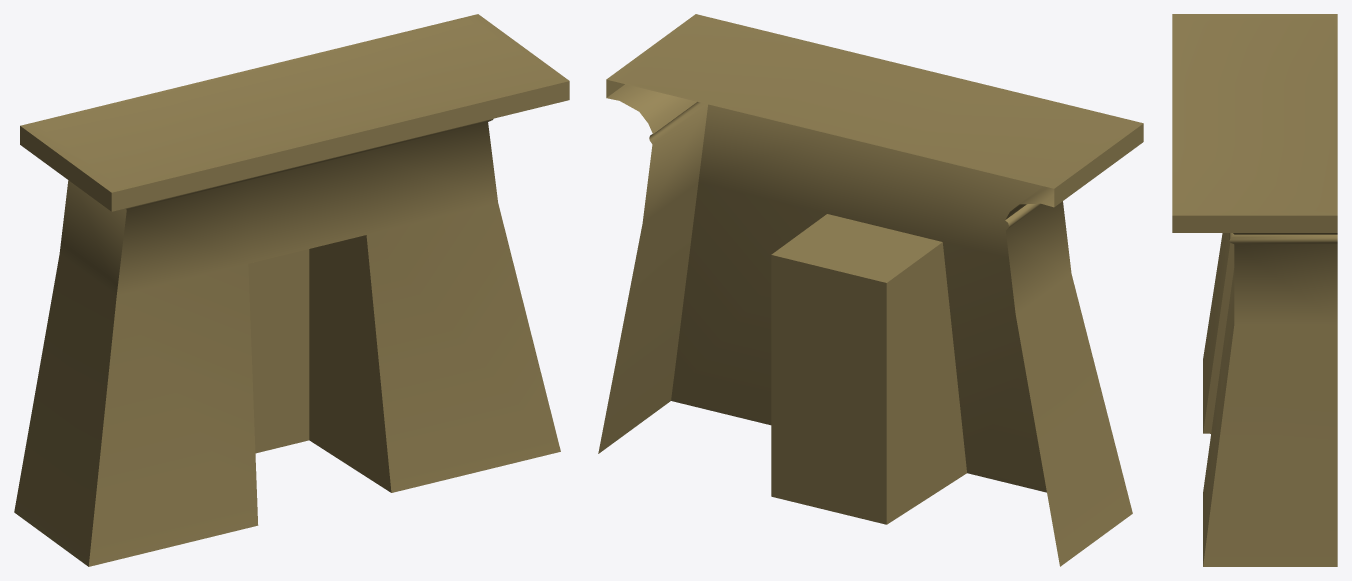
File: Tor_v2.fbx
3 renders of one model, left to right at view 1: azimuth 30°, elevation 25°; view 2: azimuth 150°, elevation 25°; view 3: azimuth 270°, elevation 25°, orthographic. The views are drawn at different scales.
Visible parts, largest first — view 1: Pylon_v1; view 2: Pylon_v1; view 3: Pylon_v1.
Part boxes in pixels (x1,y1,x2,y2): Pylon_v1: [14, 14, 569, 566]; Pylon_v1: [598, 14, 1143, 566]; Pylon_v1: [1172, 14, 1337, 566].
Size of the model in its own units: 10.34 by 8.06 by 3.48.
